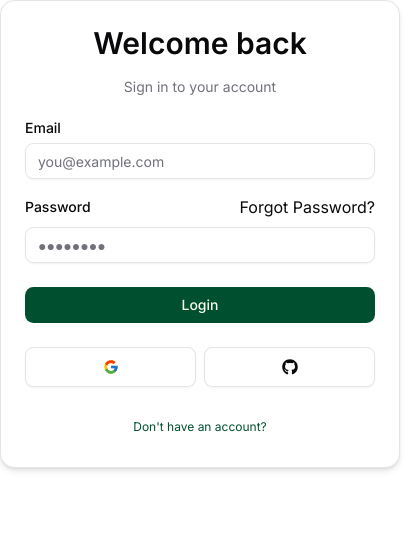
Test: LoginForm › shows server error message after failed login
The width and height of the screenshot is (418, 557).
Type "student@cpp.edu" into the field with placeholder "you@example.com" at point(200, 161), box [25,143,375,179]
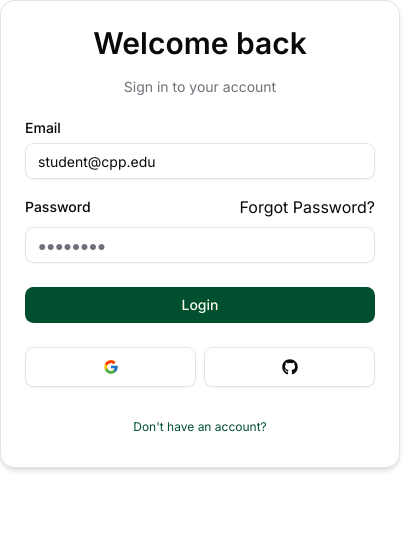
Type "secretpass" into the password field with placeholder "●●●●●●●●" at point(200, 245), box [25,227,375,263]
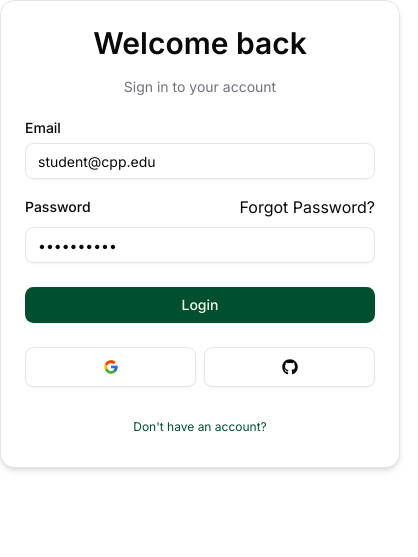
Click the button "Login" at point(200, 305), box [25,287,375,323]
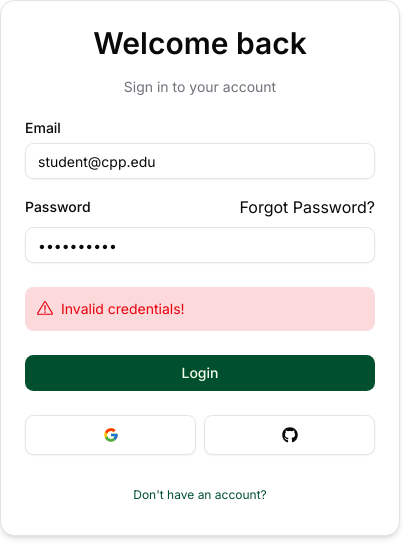
Expected: the text "Invalid credentials!" is shown, [61,299,185,319]
